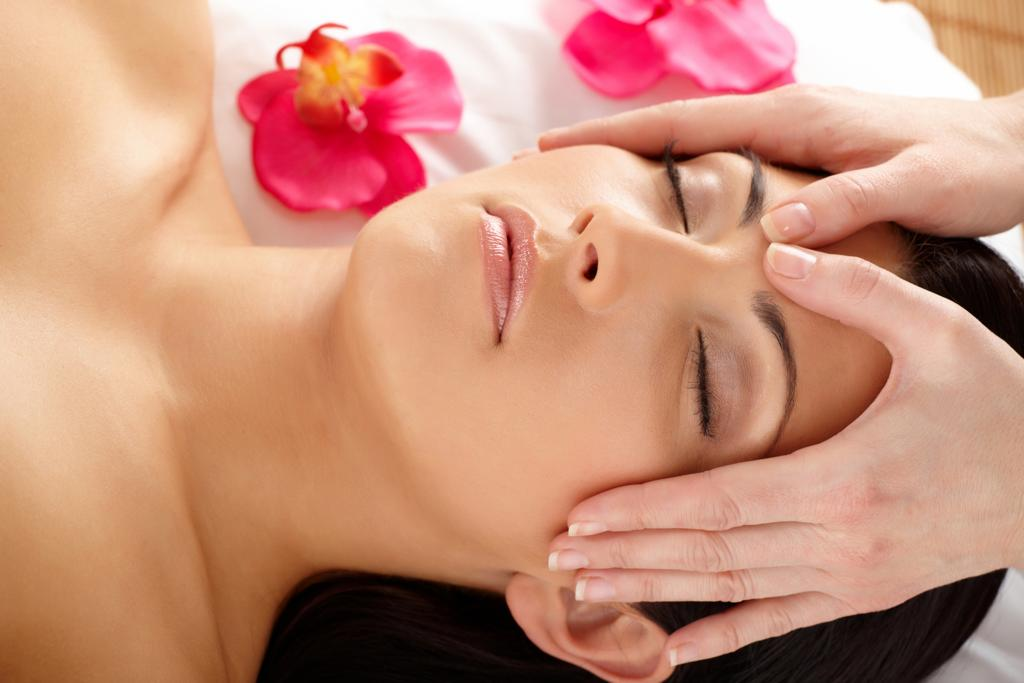face: (354, 142, 918, 490)
